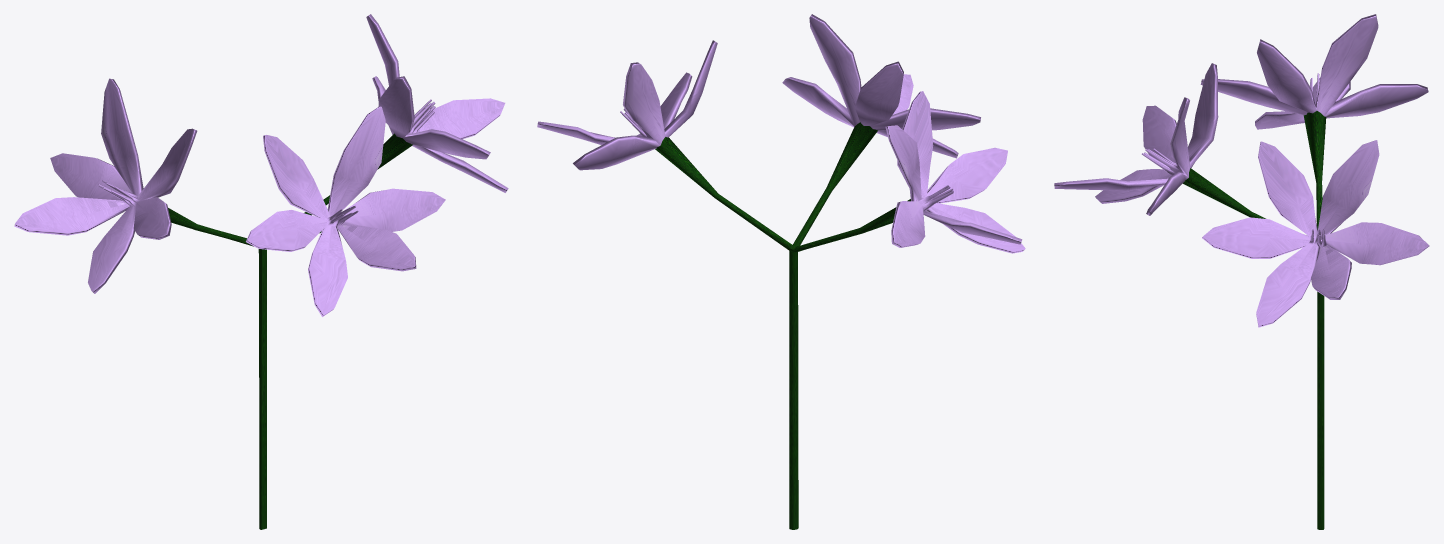
Rendered from purpleflower.fbx.
3 renders of one model, left to right at view 1: azimuth 30°, elevation 25°; view 2: azimuth 150°, elevation 25°; view 3: azimuth 270°, elevation 25°, orthographic.
Visible parts, largest first — view 1: whitetigerlily; view 2: whitetigerlily; view 3: whitetigerlily.
Part boxes in pixels (left/top/right/bottom): whitetigerlily: left=14, top=14, right=508, bottom=529; whitetigerlily: left=537, top=14, right=1025, bottom=529; whitetigerlily: left=1054, top=14, right=1429, bottom=529.
Bounding box in the file's own units: 0.696 × 0.623 × 0.4672.
